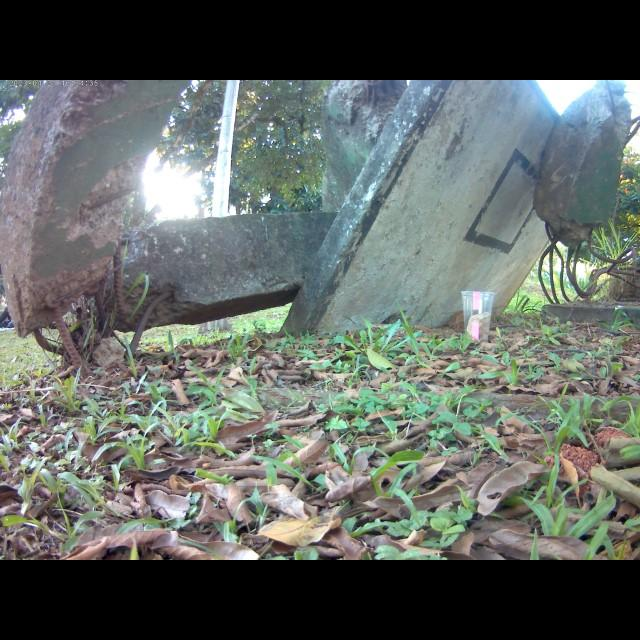detrito: (269, 80, 568, 334), (1, 83, 199, 356), (46, 213, 339, 376), (534, 86, 637, 256)
